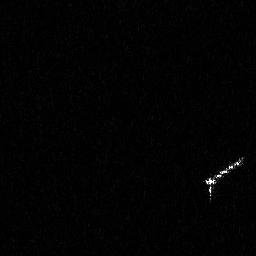ship: (201, 152, 246, 204)
